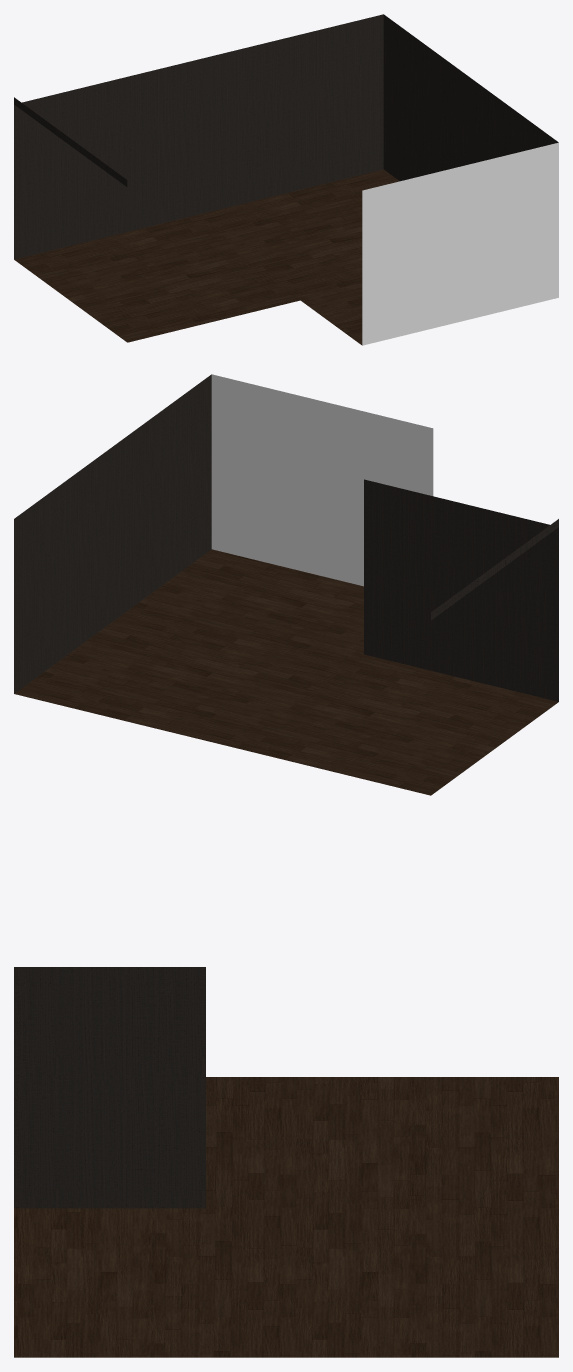
Rendered from ReyesEu_Access02.fbx.
3 renders of one model, top to bottom at view 1: azimuth 30°, elevation 25°; view 2: azimuth 150°, elevation 25°; view 3: azimuth 270°, elevation 25°, orthographic. The views are drawn at different scales.
Visible parts, largest first — view 1: Aceso_02; view 2: Aceso_02; view 3: Aceso_02.
Part boxes in pixels (x1,y1,x2,y2): Aceso_02: [14, 14, 558, 345]; Aceso_02: [14, 374, 558, 795]; Aceso_02: [14, 967, 558, 1357].
Size of the model in its own units: 714 by 300 by 586.
3 materials, 2 textured.
